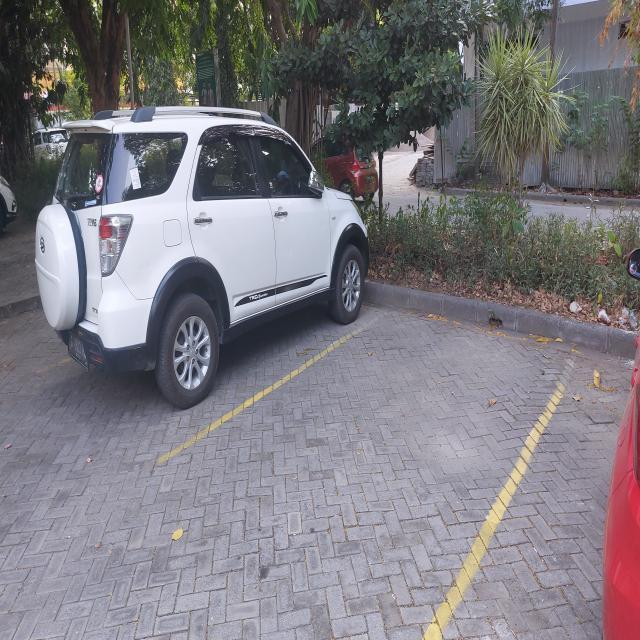empty: (165, 309, 580, 637)
occupied: (37, 106, 381, 462)
